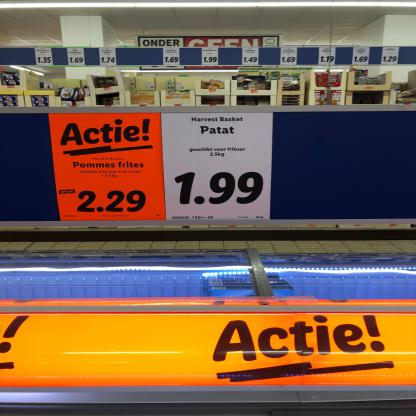prtg: (50, 114, 167, 222), (161, 113, 274, 221)
